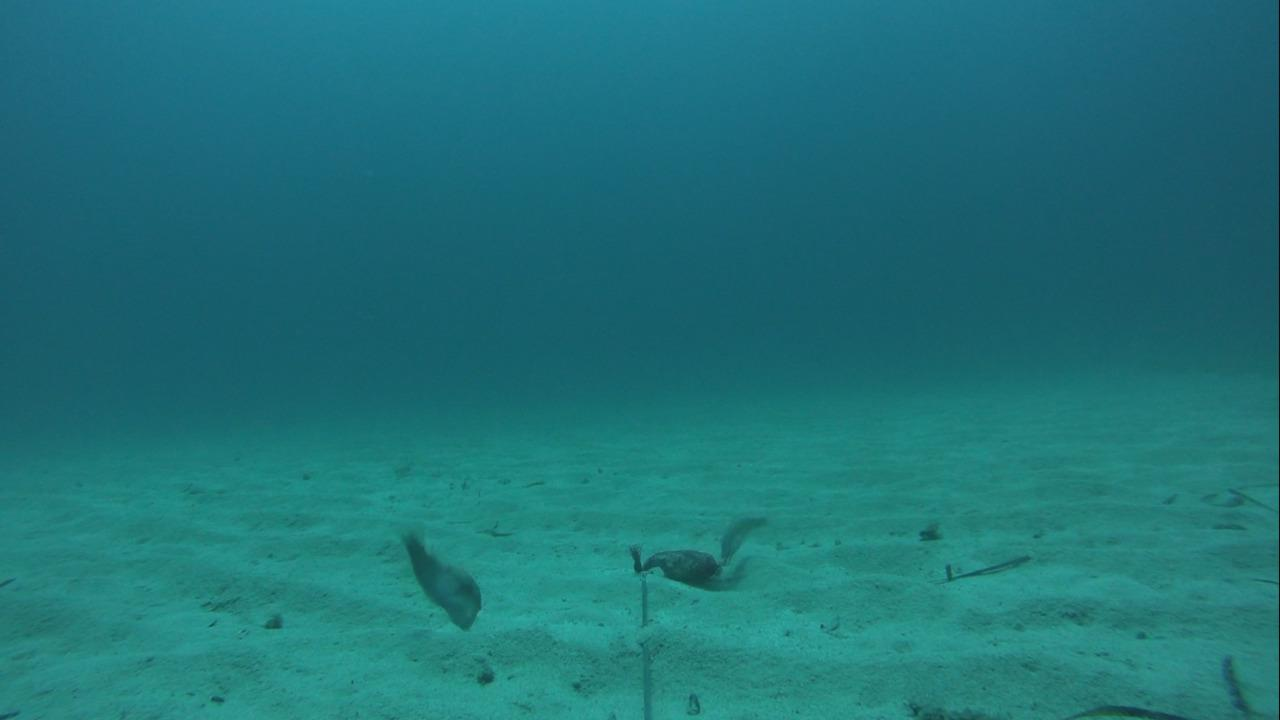raor: (397, 521, 485, 633), (711, 506, 771, 568)
